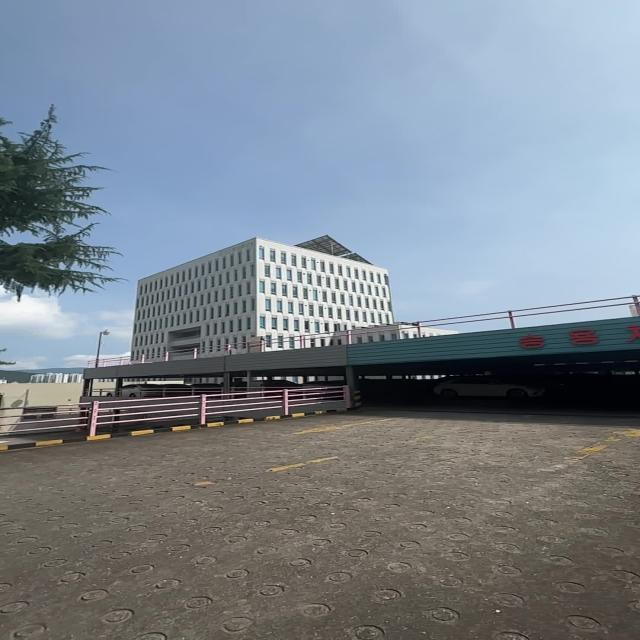building: (126, 220, 416, 348)
